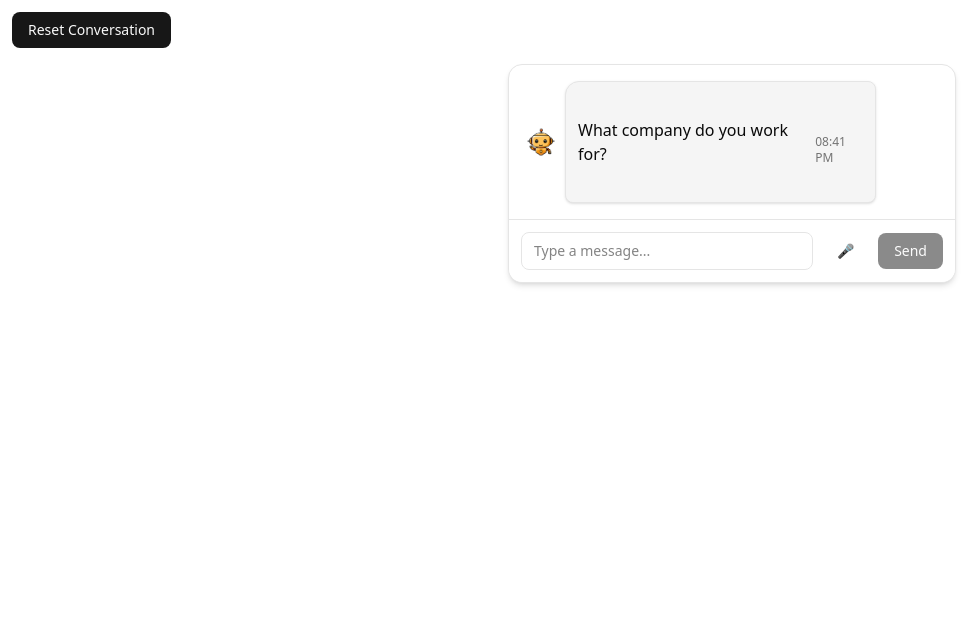
ConversationViewer › lets the user answer questions and shows next AI question
Type "I work for TestCo" into the field with placeholder "Type a message..." at (667, 251), box [521,232,813,270]
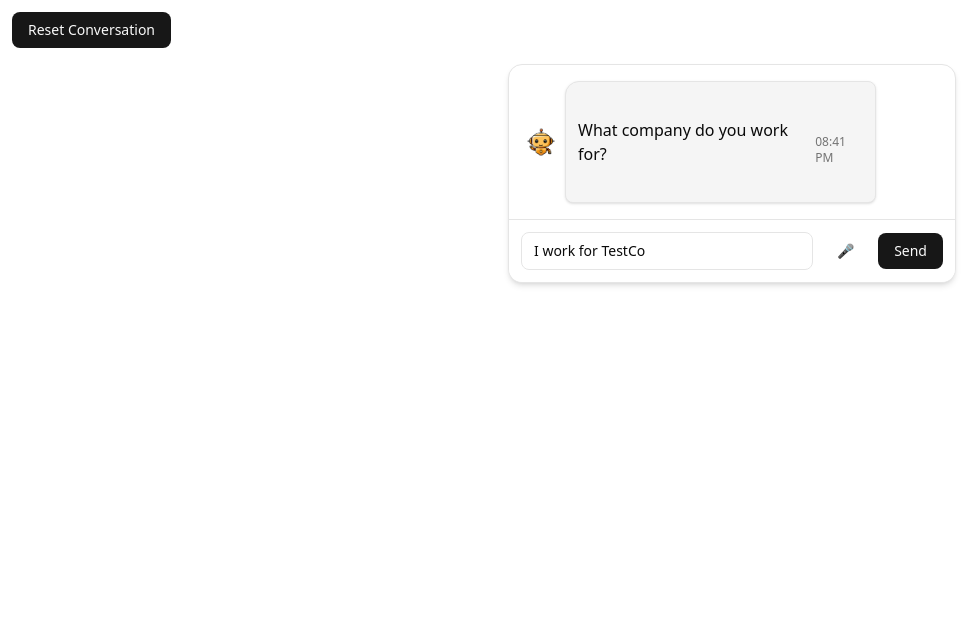
Click the button "Send" at (911, 251), box [878,233,943,269]
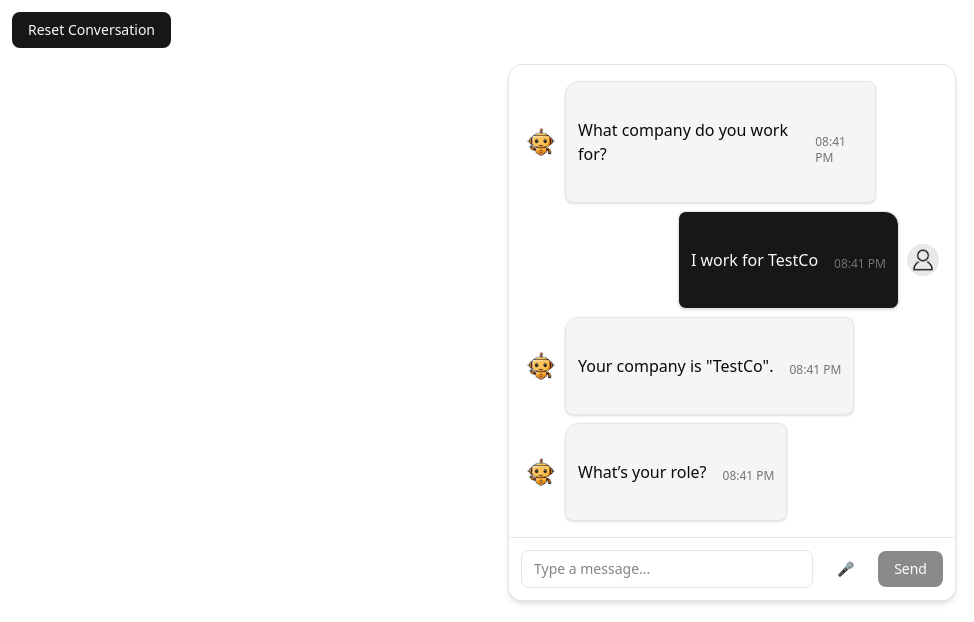
Expected: the text "What’s your role?" is shown, [578,460,706,484]
Expected: the text "I work for TestCo" is shown, [691,248,818,272]
